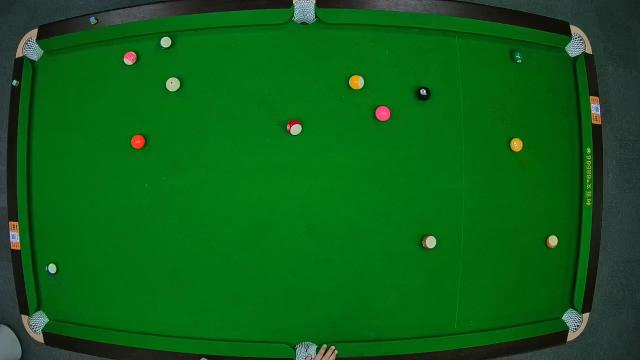bag1: (22, 38, 44, 62)
bag2: (293, 1, 317, 23)
bag3: (564, 34, 586, 57)
bag4: (26, 308, 48, 334)
bag5: (294, 342, 320, 360)
bag6: (562, 306, 584, 334)
ball0: (166, 77, 182, 93)
ball1: (510, 138, 526, 154)
ball10: (44, 262, 60, 276)
ball11: (284, 118, 302, 138)
ball12: (124, 50, 138, 66)
ball13: (546, 234, 558, 250)
ball14: (158, 36, 175, 50)
ball15: (420, 234, 440, 250)
ball4: (374, 105, 392, 122)
ball5: (129, 134, 147, 150)
ball6: (509, 50, 525, 66)
ball8: (416, 87, 432, 101)
ball9: (348, 74, 366, 90)
